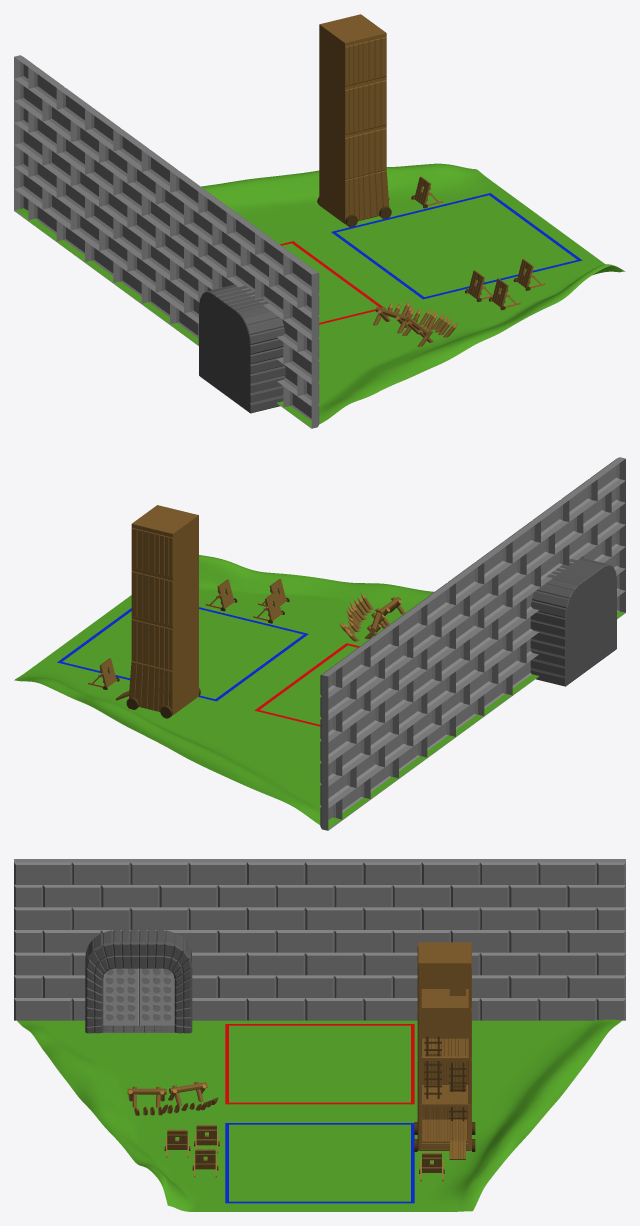
The model's file is Battle_field.fbx.
3 renders of one model, top to bottom at view 1: azimuth 30°, elevation 25°; view 2: azimuth 150°, elevation 25°; view 3: azimuth 270°, elevation 25°, orthographic. The views are drawn at different scales.
Visible parts, largest first — view 1: Plane, Plane.003, Cylinder.004, Cube.028, Cube.010; view 2: Plane, Plane.003, Cylinder.004, Cube.028, Cube.010; view 3: Plane.003, Plane, Cylinder.004, Cube.028, Cube.031, Cube.024, Cube, Cube.021, Cube.010, Cube.003.
Boxes of the visible parts, x1,y1,x2,y2 form: Plane: (14, 163, 625, 427); Plane.003: (14, 55, 319, 428); Cylinder.004: (317, 14, 391, 227); Cube.028: (199, 284, 285, 413); Cube.010: (386, 300, 457, 337); Plane: (14, 555, 625, 829); Plane.003: (320, 457, 625, 830); Cylinder.004: (115, 505, 200, 718); Cube.028: (530, 558, 616, 686); Cube.010: (339, 593, 373, 641); Plane.003: (14, 859, 625, 1020); Plane: (17, 1019, 621, 1211); Cylinder.004: (414, 942, 475, 1159); Cube.028: (85, 930, 192, 1033); Cube.031: (424, 1036, 441, 1098); Cube.024: (192, 1149, 218, 1177); Cube: (194, 1125, 219, 1153); Cube.021: (164, 1129, 190, 1157); Cube.010: (134, 1097, 218, 1115); Cube.003: (419, 1153, 444, 1181).
Size of the model in its own units: 1438 by 631 by 1783.
